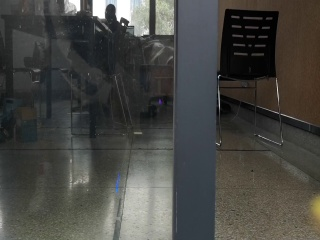room: (4, 3, 320, 236)
